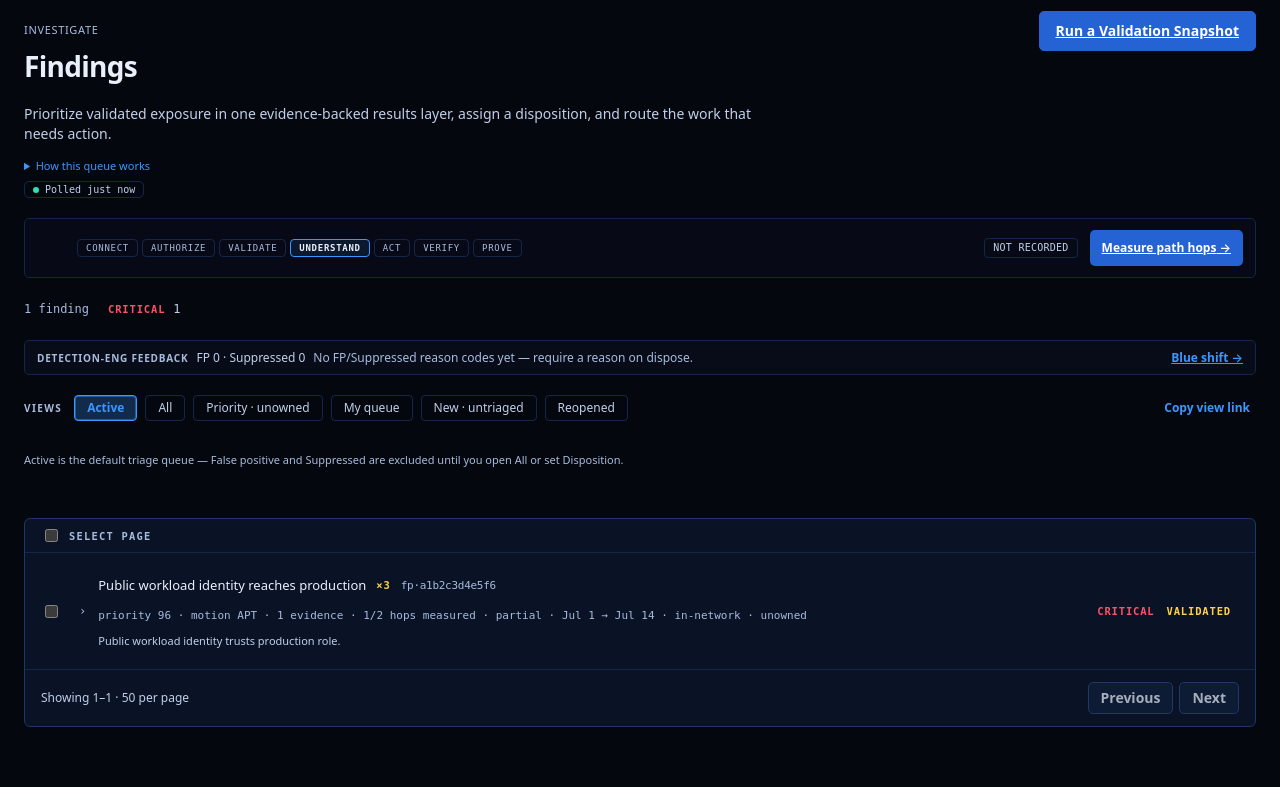
it: FindingsWorkbench v2 › shows measured hop fraction and sourceMotion honesty on path-linked findings
Check: the text "motion APT" is shown, box x1=98 y1=609 x2=807 y2=622
Check: the text "1/2 hops measured · partial" is shown, box x1=343 y1=609 x2=542 y2=622
Step 1. Click the button "Public workload identity reaches production" → point(656, 611), box x1=73 y1=562 x2=1239 y2=660
(page scrolled)
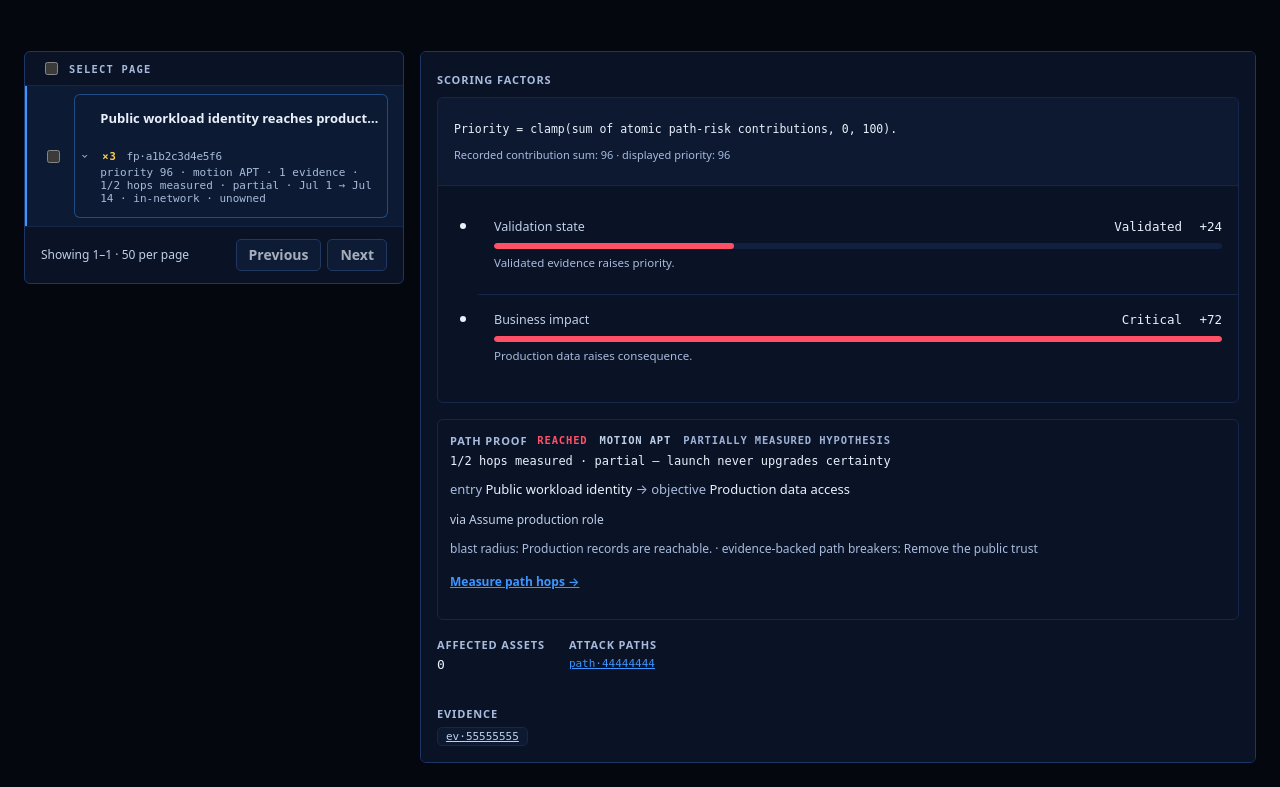
Check: the text with test id "finding-hop-fraction" shows "1/2 hops measured", box x1=450 y1=454 x2=891 y2=468
Check: the text with test id "finding-hop-fraction" shows "partial — launch never upgrades certainty", box x1=573 y1=454 x2=891 y2=468
Check: the text "motion APT" is shown, box x1=598 y1=432 x2=673 y2=448
